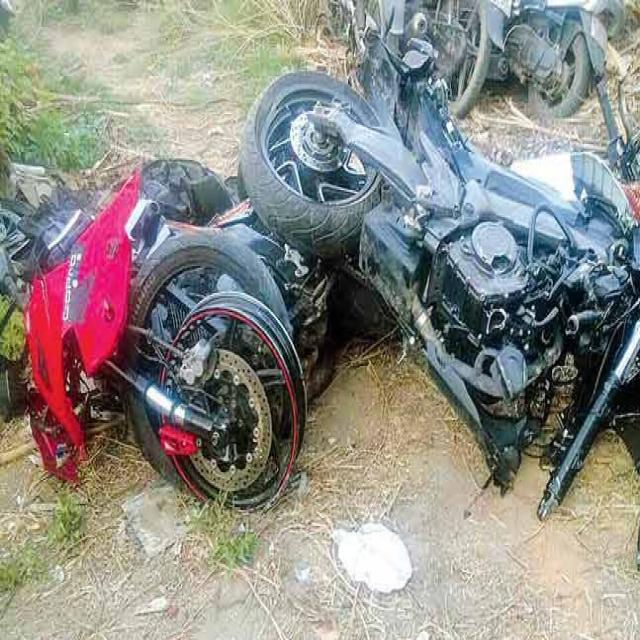accident: (239, 30, 640, 517), (0, 160, 331, 507)
